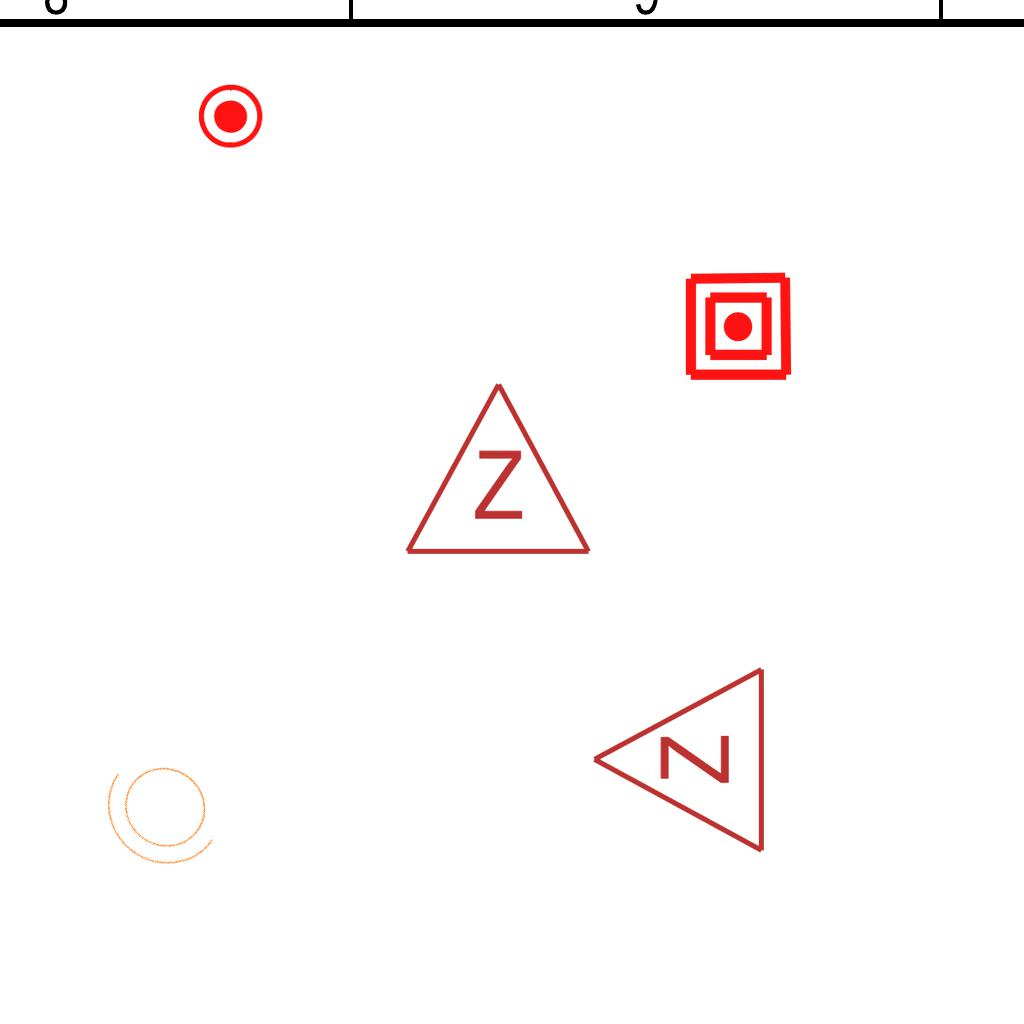NAM-Nichtautomatischer_Melder: (682, 270, 795, 383)
Scheinwerfer_fuer_Alarmbeleuchtung: (78, 729, 252, 897)
Taster: (199, 84, 265, 150)
Zimmersignalleuchte: (398, 369, 594, 569), (579, 664, 779, 860)
